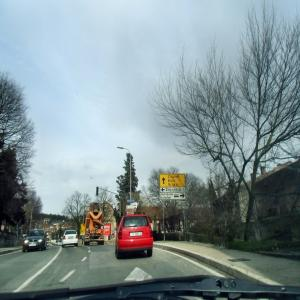Vehicle-registration-plate: (131, 234, 143, 238), (30, 245, 37, 247), (69, 237, 74, 239)
